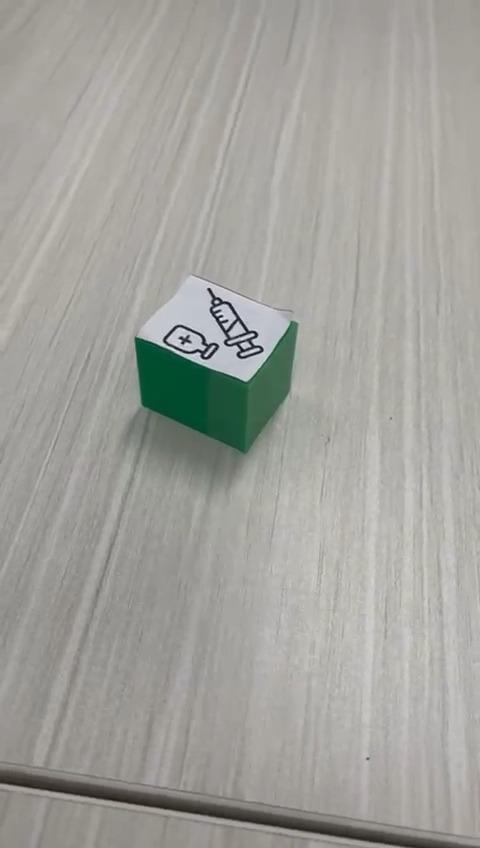antiseptic cream: (133, 272, 299, 454)
